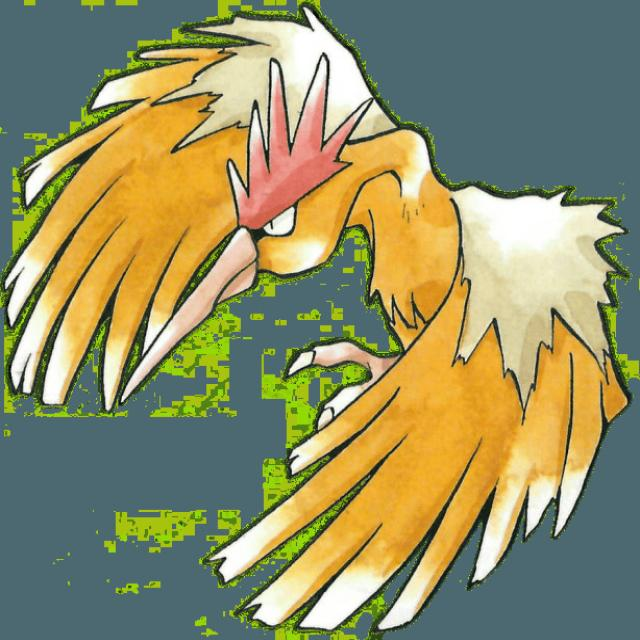Fearow: (148, 10, 536, 588)
